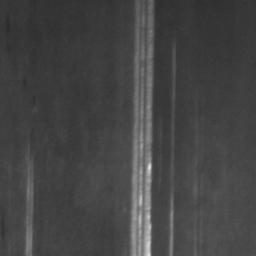Bright scratch: (131, 0, 155, 256), (26, 159, 35, 256)
